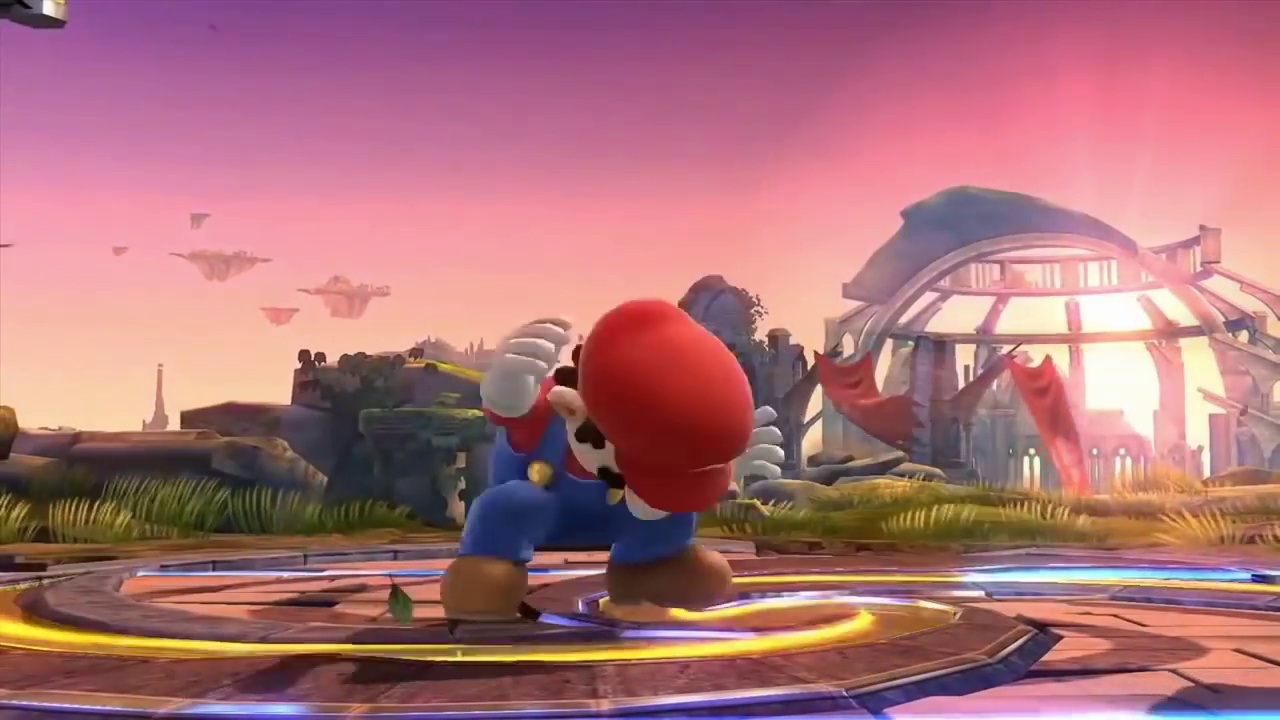Mario: (447, 300, 786, 595)
